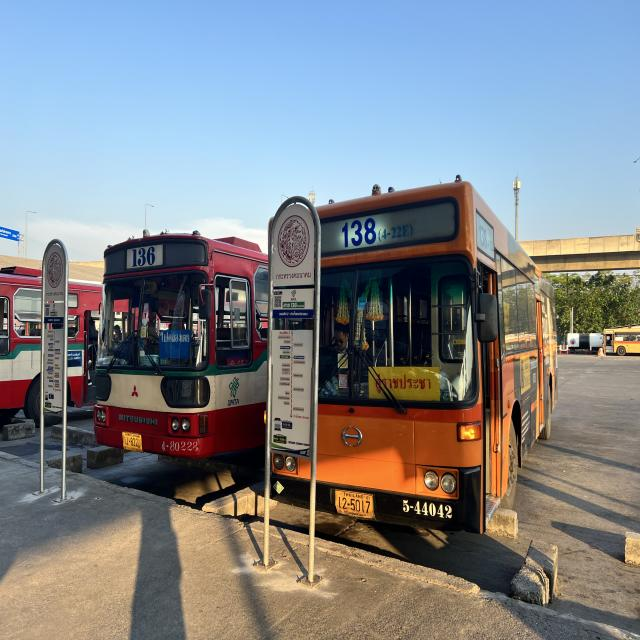BMTA-bus: (308, 179, 556, 549), (90, 232, 270, 465)
Bus-Line-Number: (334, 211, 416, 251), (130, 244, 159, 268)
Destination-Sign-Normal: (158, 327, 192, 360)
Destination-Sign-Normal-Expressway: (368, 363, 442, 401)
